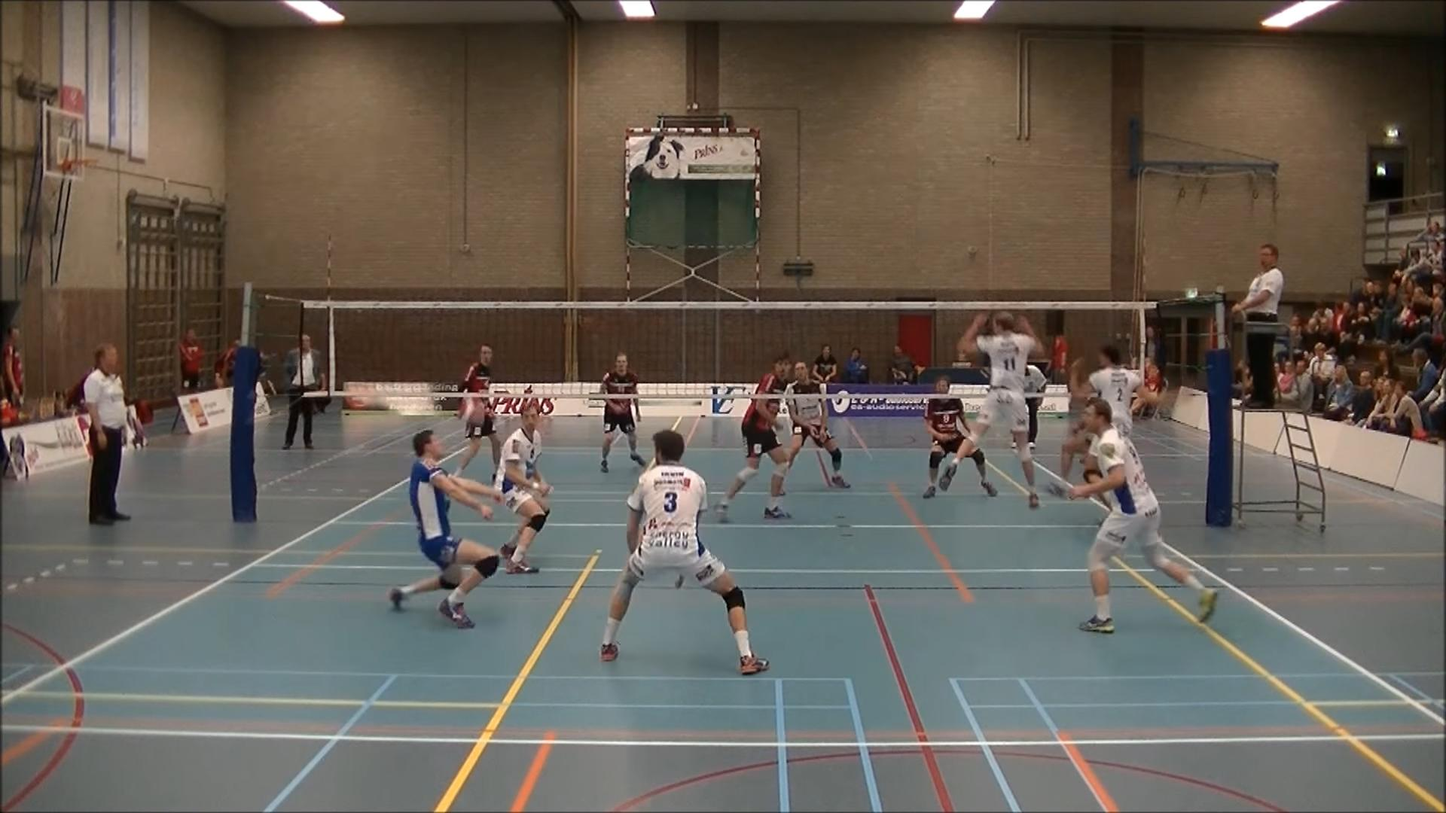Dig: (387, 423, 504, 630)
Player: (601, 430, 768, 674), (1068, 397, 1217, 632), (941, 311, 1039, 507), (715, 354, 791, 521), (493, 398, 551, 574), (786, 362, 850, 488), (1070, 345, 1142, 437), (457, 345, 501, 473), (600, 353, 645, 472), (922, 397, 969, 498), (1024, 364, 1048, 449)
